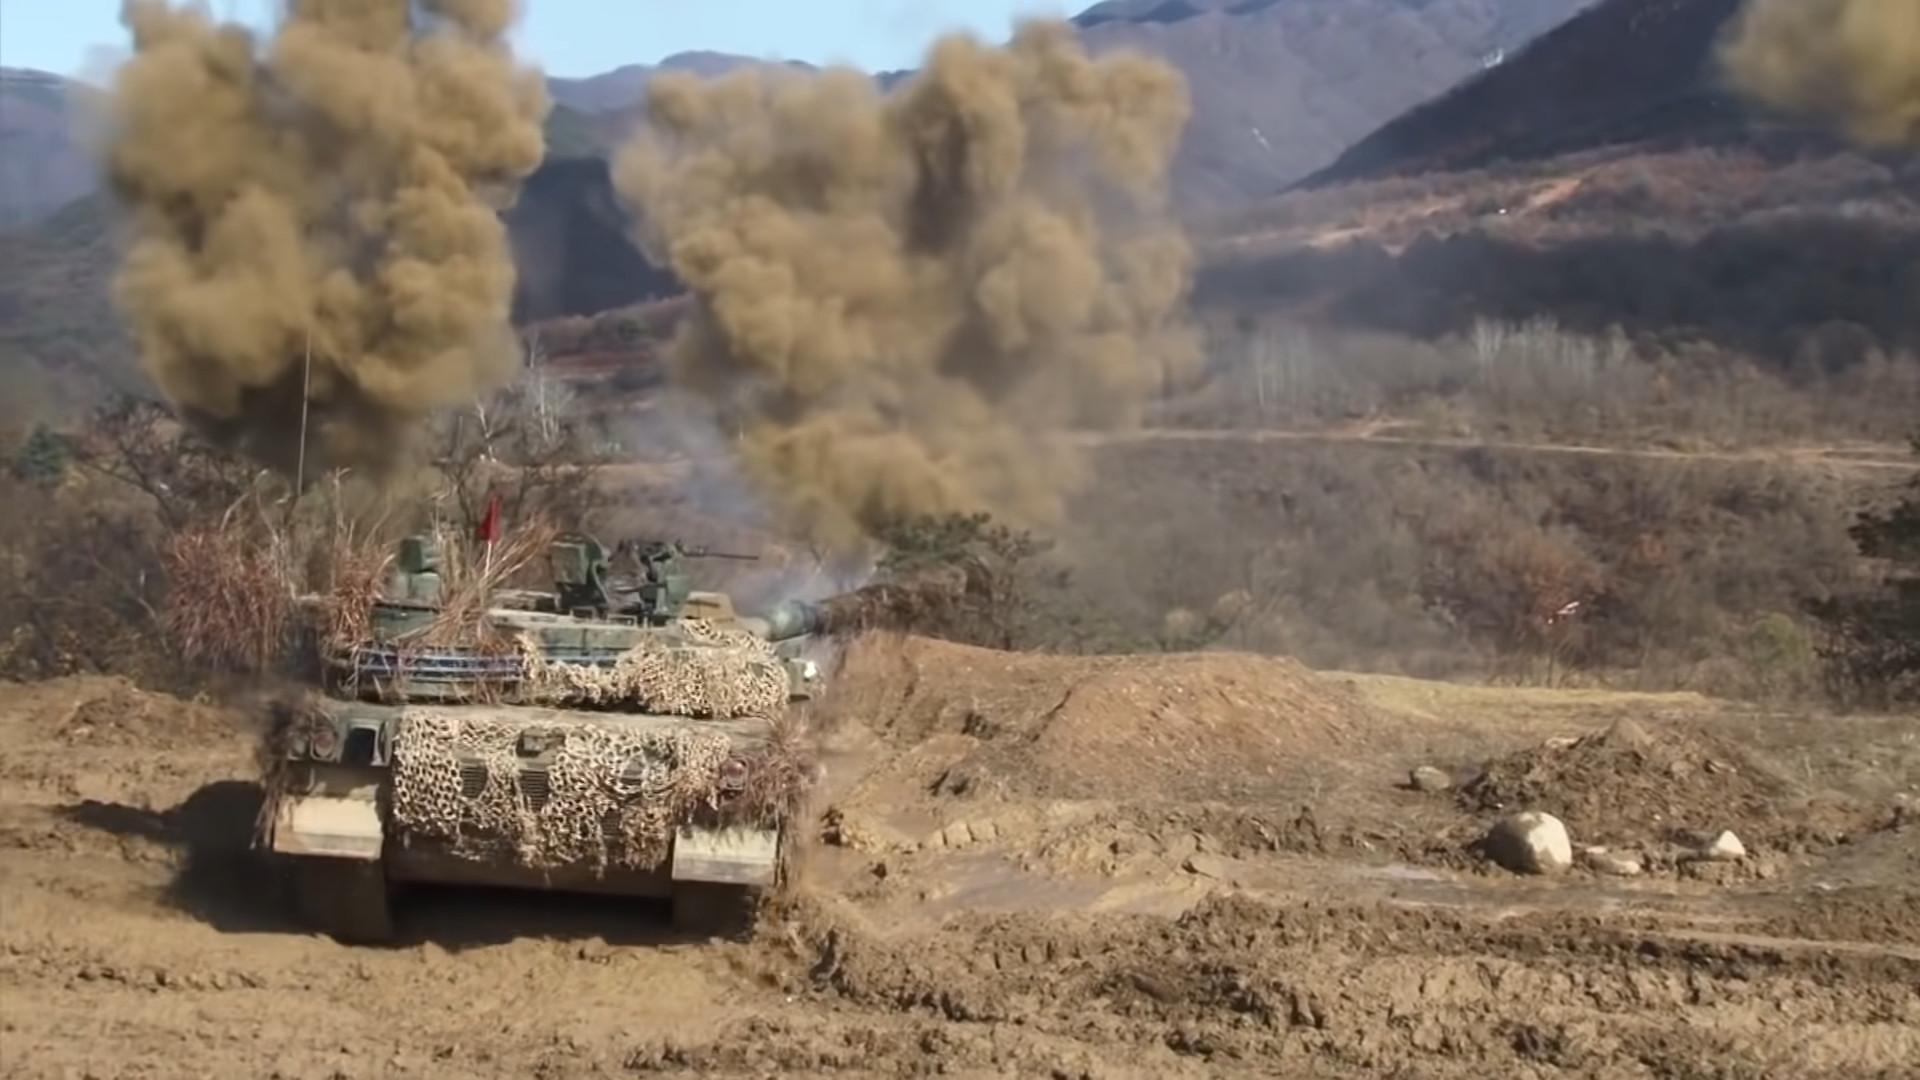tank: (255, 533, 992, 939)
